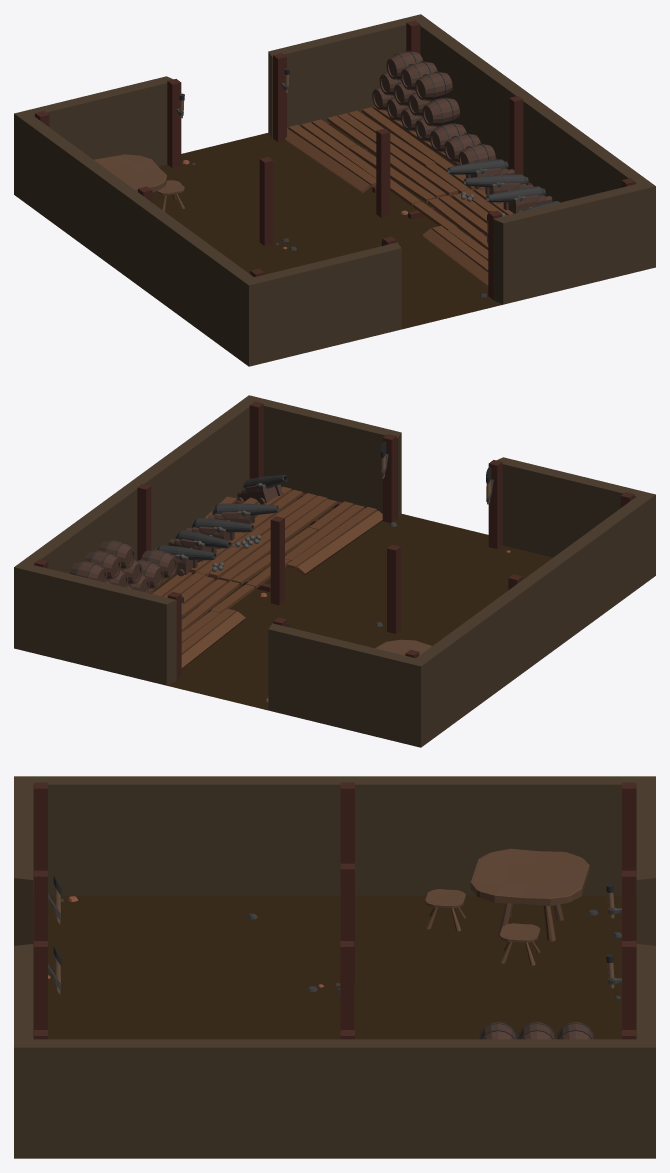
The model's file is RoomBen2.fbx.
3 renders of one model, top to bottom at view 1: azimuth 30°, elevation 25°; view 2: azimuth 150°, elevation 25°; view 3: azimuth 270°, elevation 25°, orthographic. The views are drawn at different scales.
Visible parts, largest first — view 1: Room1.002, RoomFloor.001, FloorBoard.001, FloorBoard.002, Table.001, Support.037, Support.036, Support.029, Support.028, Support.035, Cannon.003, Cannon.002 (+9 smaller); view 2: Room1.002, RoomFloor.001, FloorBoard.002, FloorBoard.001, Support.037, Support.036, Support.027, Support.026, Support.032, Support.035, Cannon.004, Cannon.005 (+9 smaller); view 3: Room1.002, RoomFloor.001, Table.001, Support.037, Support.028, Support.031, Support.026, Support.030, Support.034, Support.036, Support.029, Support.027 (+2 smaller).
Boxes of the visible parts, x1,y1,x2,y2 form: Room1.002: (14, 14, 655, 366); RoomFloor.001: (152, 118, 502, 329); FloorBoard.001: (285, 106, 476, 206); FloorBoard.002: (412, 189, 513, 285); Table.001: (94, 154, 166, 192); Support.037: (376, 128, 390, 217); Support.036: (259, 157, 273, 245); Support.029: (167, 79, 181, 167); Support.028: (273, 53, 286, 142); Support.035: (509, 96, 523, 174); Cannon.003: (486, 186, 552, 213); Cannon.002: (463, 174, 533, 204); Room1.002: (14, 395, 655, 747); RoomFloor.001: (153, 497, 552, 710); FloorBoard.002: (188, 486, 382, 589); FloorBoard.001: (148, 572, 254, 668); Support.037: (270, 516, 284, 605); Support.036: (387, 544, 400, 633); Support.027: (488, 460, 502, 549); Support.026: (382, 434, 396, 522); Support.032: (249, 401, 263, 478); Support.035: (137, 483, 151, 560); Cannon.004: (207, 503, 278, 532); Cannon.005: (237, 475, 287, 504); Room1.002: (14, 776, 655, 1158); RoomFloor.001: (33, 895, 636, 1039); Table.001: (470, 848, 589, 941); Support.037: (340, 941, 354, 1038); Support.028: (622, 941, 636, 1029); Support.031: (622, 782, 636, 870); Support.026: (34, 941, 47, 1029); Support.030: (34, 782, 47, 870); Support.034: (340, 782, 354, 863); Support.036: (340, 863, 354, 983); Support.029: (622, 870, 636, 940); Support.027: (34, 870, 47, 940).
Size of the model in its own units: 796 by 163 by 796.
